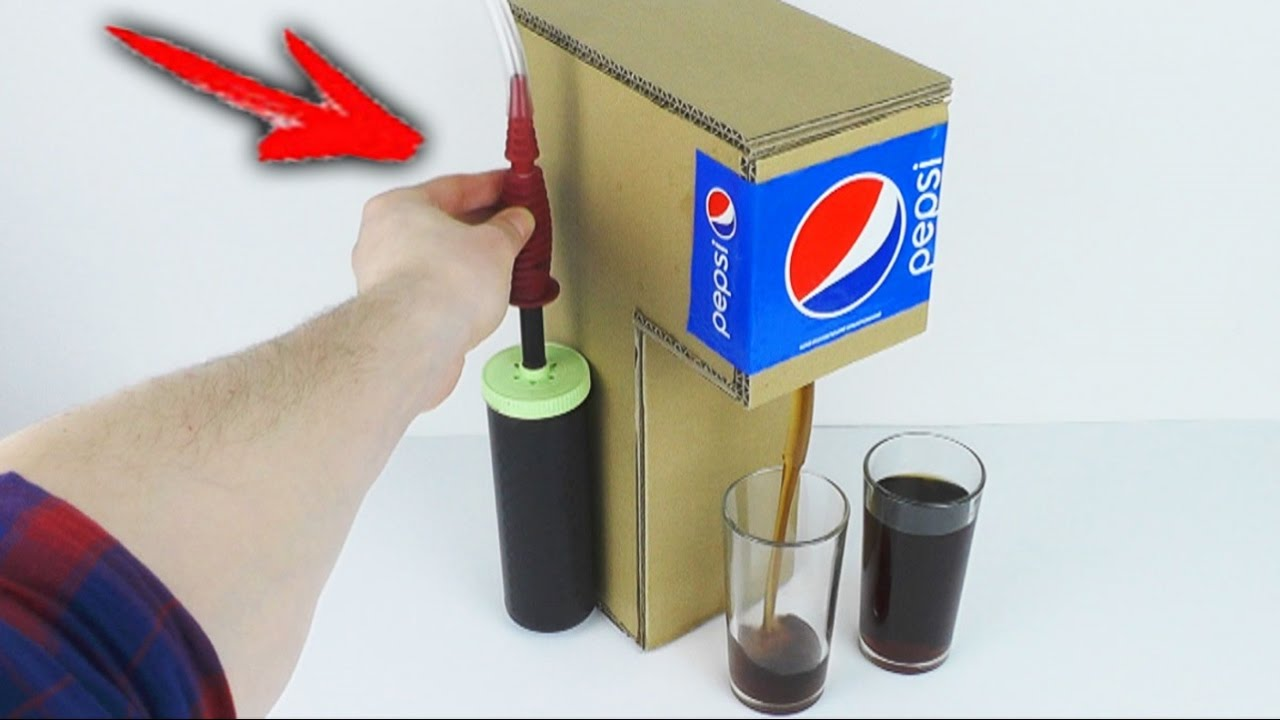pepsi: (784, 171, 906, 315), (789, 171, 906, 315), (789, 175, 906, 315), (701, 180, 738, 240)
